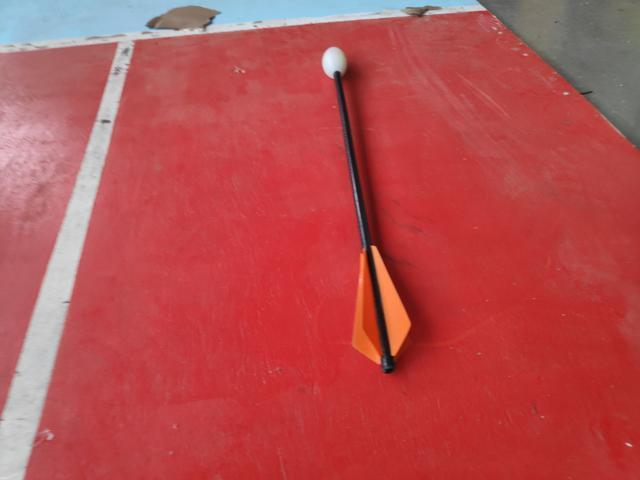Head: (320, 45, 349, 78)
Tail: (351, 243, 413, 372)
